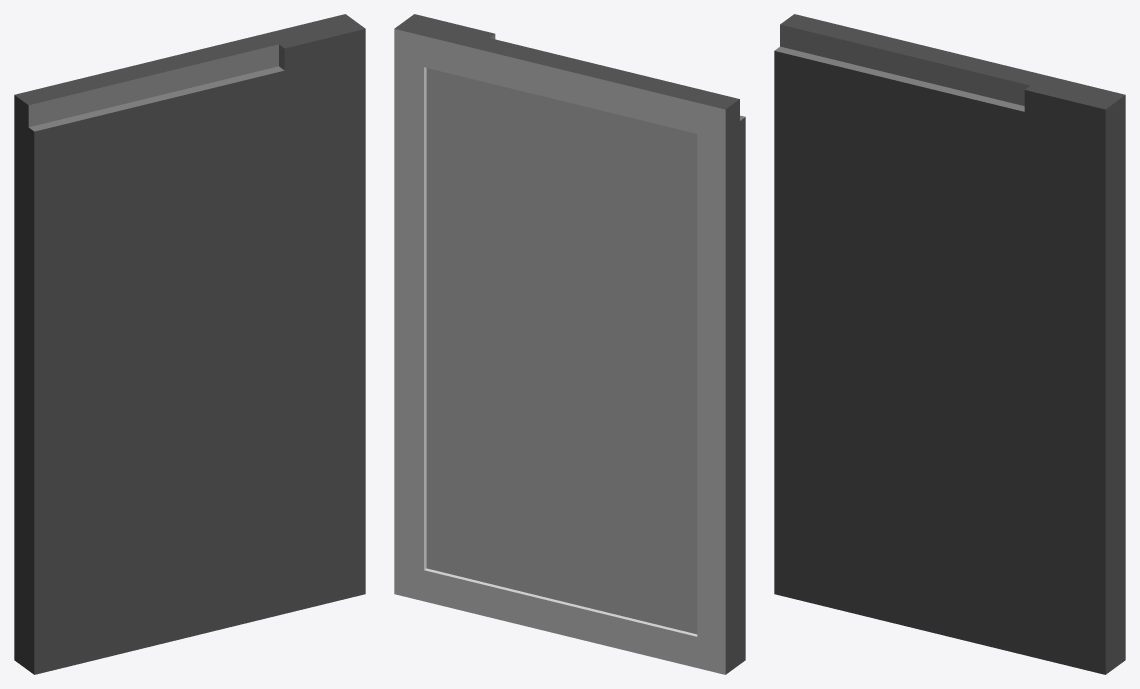
File: Refrigerator3_C2_09.fbx
3 renders of one model, left to right at view 1: azimuth 30°, elevation 25°; view 2: azimuth 150°, elevation 25°; view 3: azimuth 330°, elevation 25°, orthographic.
Visible parts, largest first — view 1: Refrigerator3_C2_09; view 2: Refrigerator3_C2_09; view 3: Refrigerator3_C2_09.
Boxes of the visible parts, box(x1,y1,x2,y2) form: Refrigerator3_C2_09: box(14, 14, 365, 674); Refrigerator3_C2_09: box(394, 14, 745, 674); Refrigerator3_C2_09: box(774, 14, 1125, 674).
Bounding box in the file's own units: 47.38 × 77.27 × 5.
